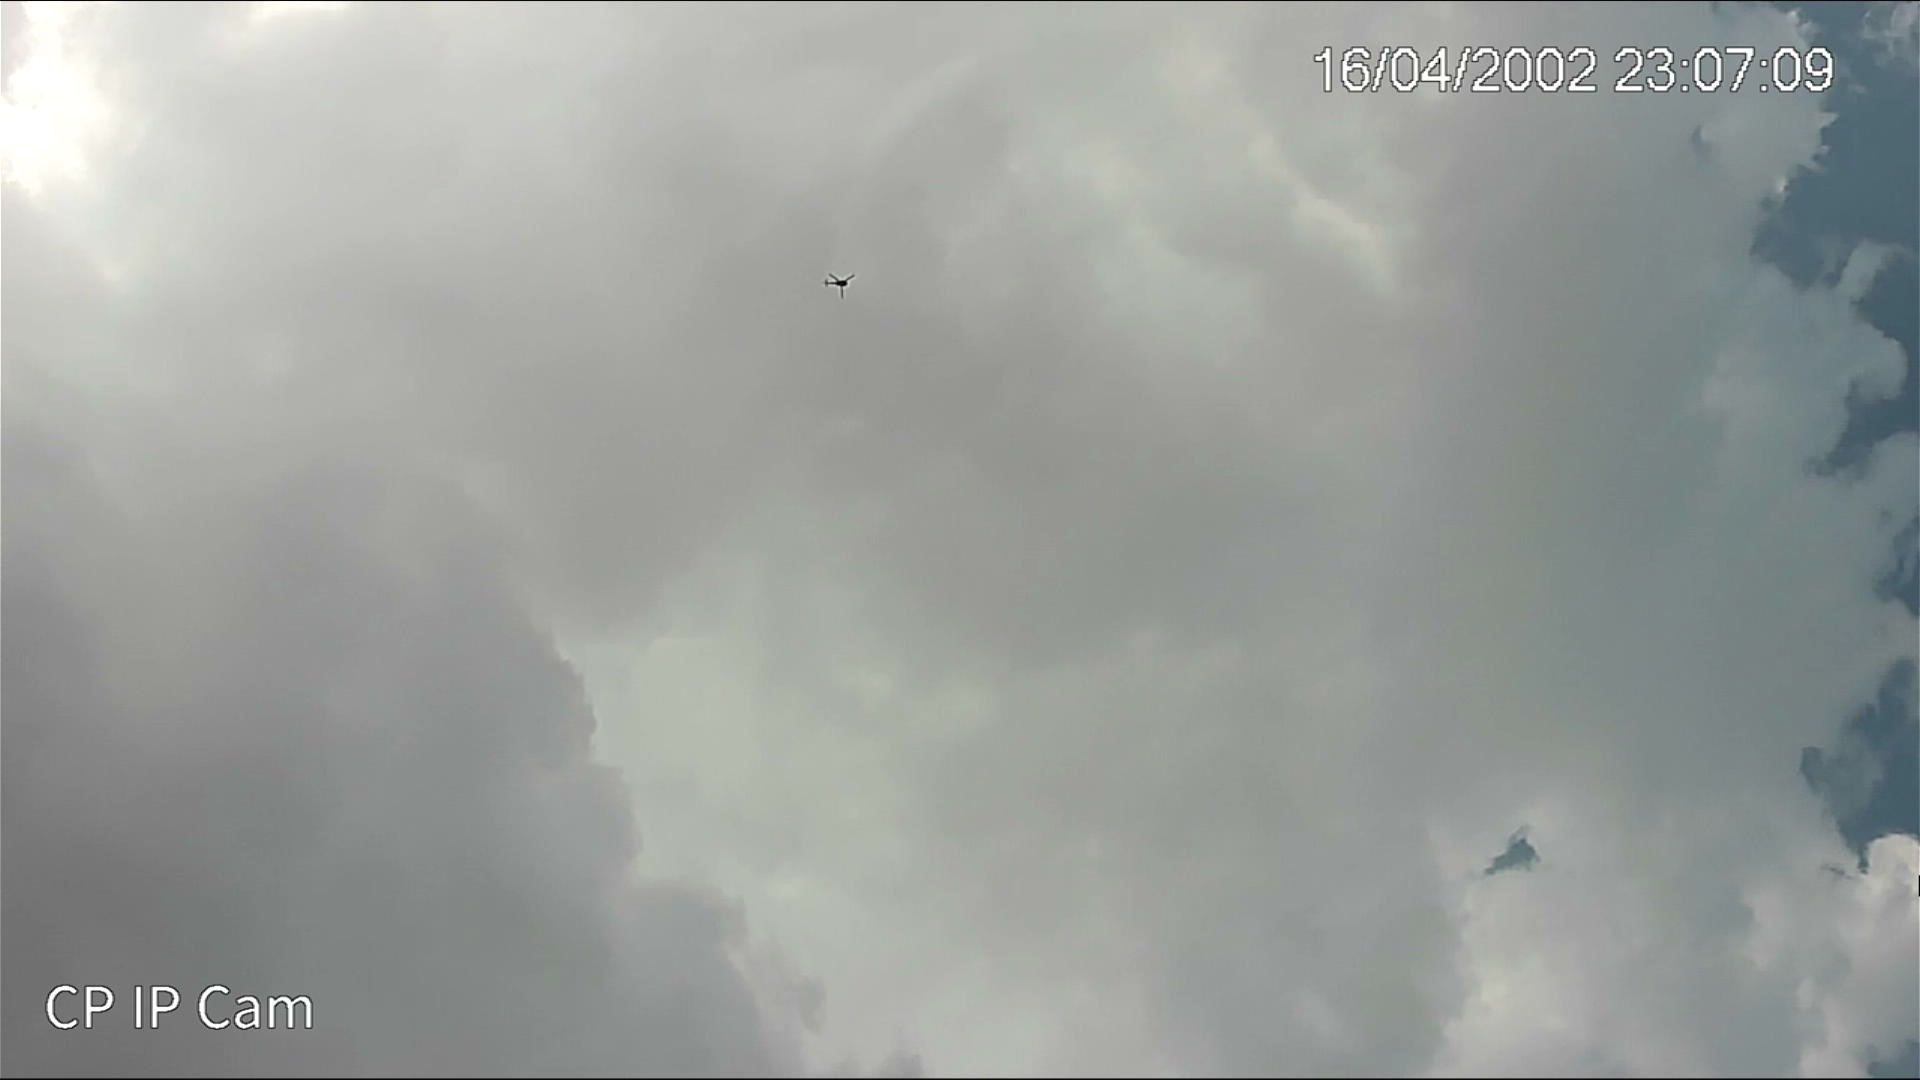SU_30: (822, 272, 857, 301)
